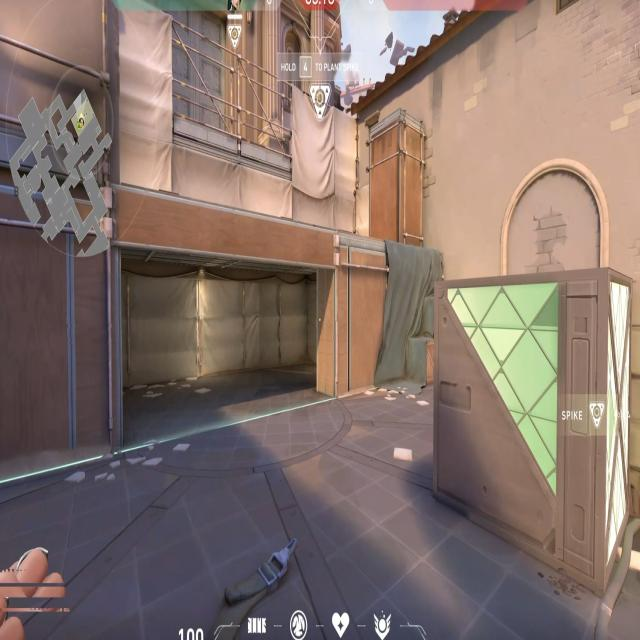A_Heaven_Box: (362, 112, 433, 246)
A_Hell: (103, 218, 348, 456)
